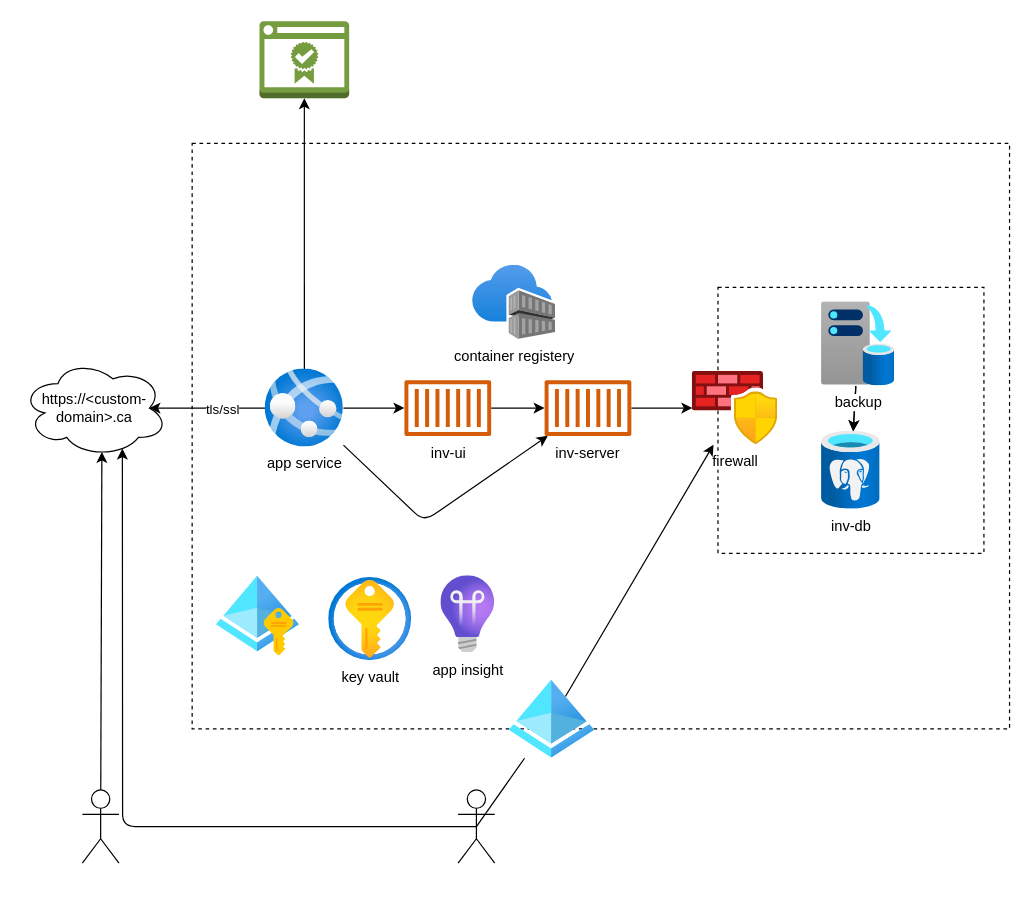
Image size: 1031x910. Some labels were removed from this diagram. Here are the shapes that lost their labels. From the top down, the centre of each, then its label:
At point 303,59: "certificate".
At point 257,615: "Managed Entity".
At point 551,719: "active directory".
At point 100,826: "User".
At point 476,826: "Admin".
